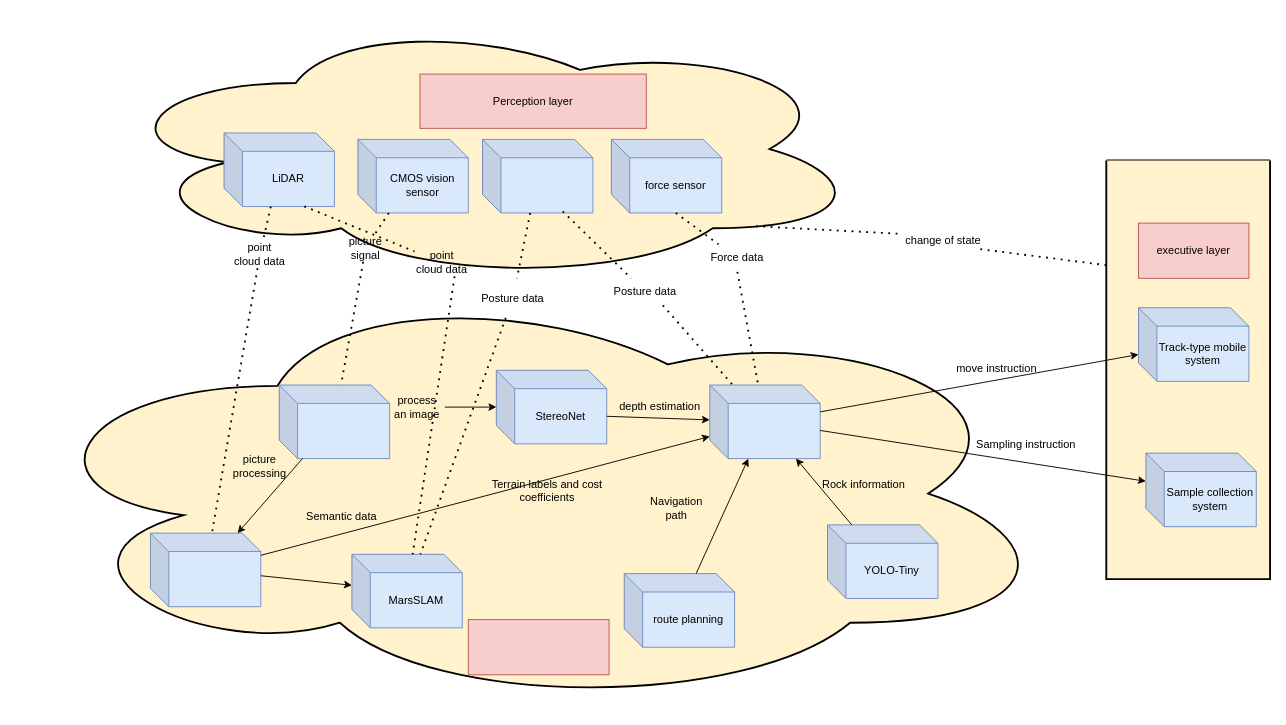
This 1286x725 diagram has some shape labels left out. The shapes that lost their labels are listed below. From the top down, each one's centre as x and y in pixels, then its label:
At [537,175]: "Six-axis IMU".
At [334,421]: "Mars-GAN".
At [764,421]: "control logic".
At [205,569]: "UNet".
At [538,647]: "decision-making level".
